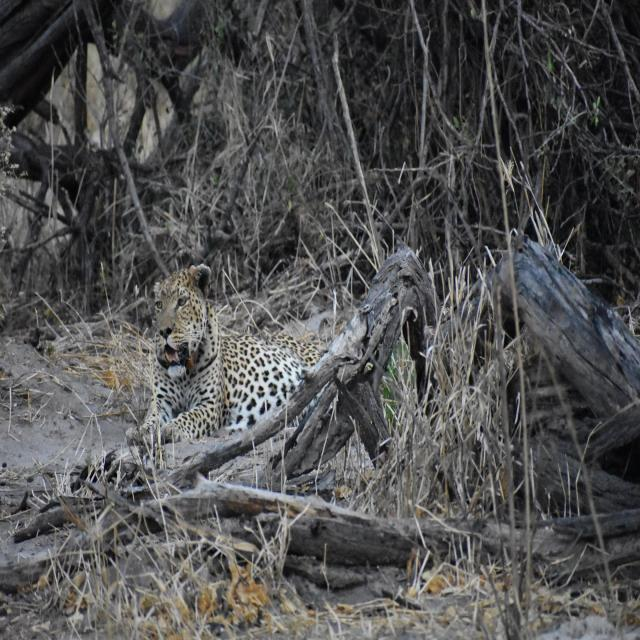Leopard: (120, 271, 330, 453)
